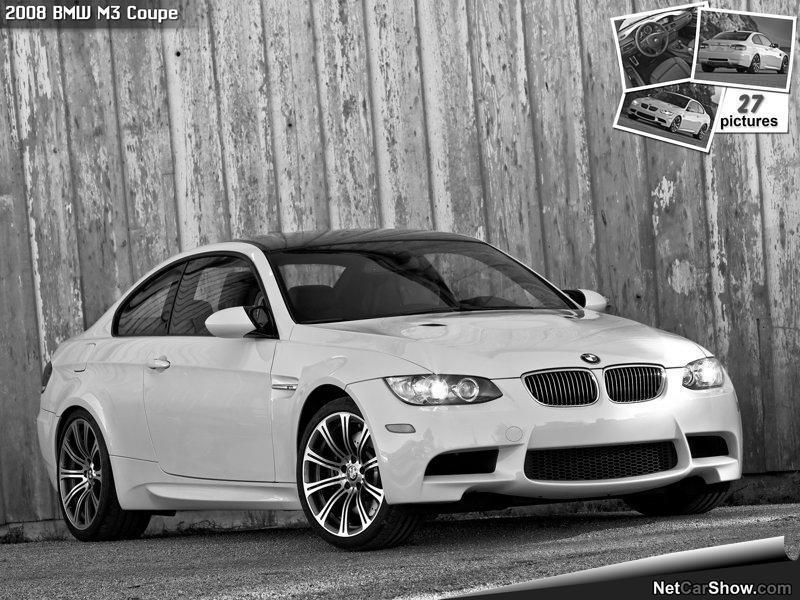car: (37, 232, 747, 552)
